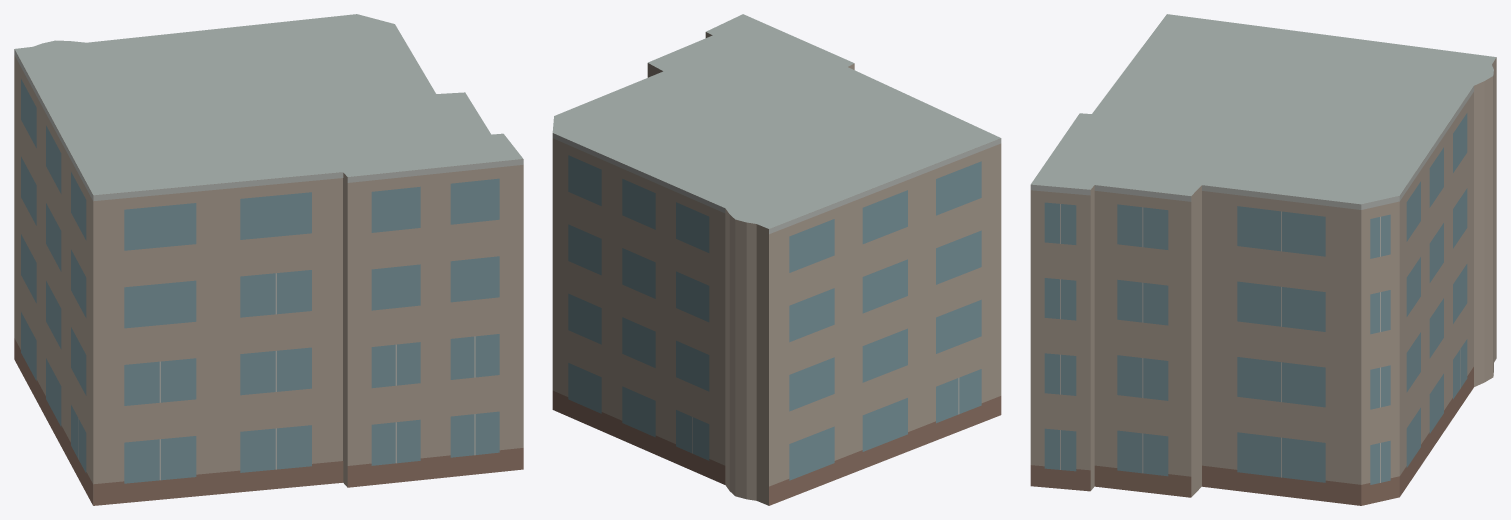
Rendered from survey-upis-32706160.glb.
The picture shows the model from 3 angles, left to right: view 1: azimuth 30°, elevation 25°; view 2: azimuth 150°, elevation 25°; view 3: azimuth 270°, elevation 25°; orthographic projection. The views are drawn at different scales.
Visible parts, largest first — view 1: survey-upis-32706160.tmp; view 2: survey-upis-32706160.tmp; view 3: survey-upis-32706160.tmp.
Part boxes in pixels (<box>): survey-upis-32706160.tmp: <box>14,14,523,505</box>; survey-upis-32706160.tmp: <box>552,14,1001,505</box>; survey-upis-32706160.tmp: <box>1030,14,1496,505</box>.
Bounding box in the file's own units: 17.48 × 12.9 × 18.07.
